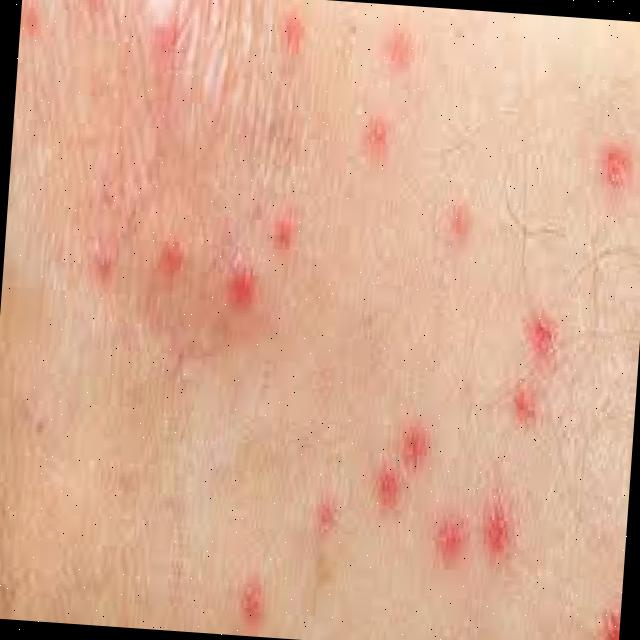kan emici bocekler: (381, 16, 454, 85), (435, 189, 494, 269), (267, 207, 332, 271), (262, 5, 323, 69), (353, 98, 404, 169), (502, 379, 566, 435), (394, 413, 444, 478), (147, 232, 194, 301), (519, 300, 566, 366), (427, 513, 476, 574), (222, 248, 261, 317), (87, 237, 131, 296), (598, 139, 635, 206), (147, 6, 192, 60), (237, 575, 276, 623), (587, 590, 623, 640), (311, 496, 352, 534), (378, 474, 409, 523)
